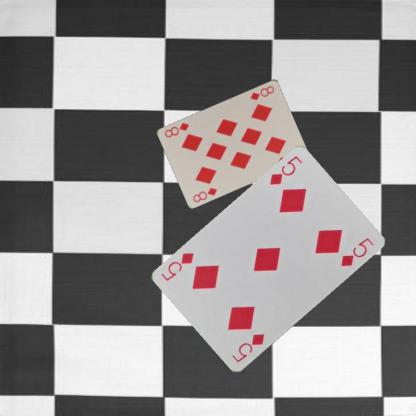5d: (229, 331, 266, 364), (267, 154, 303, 186)
8d: (190, 184, 218, 204), (247, 83, 276, 101)
